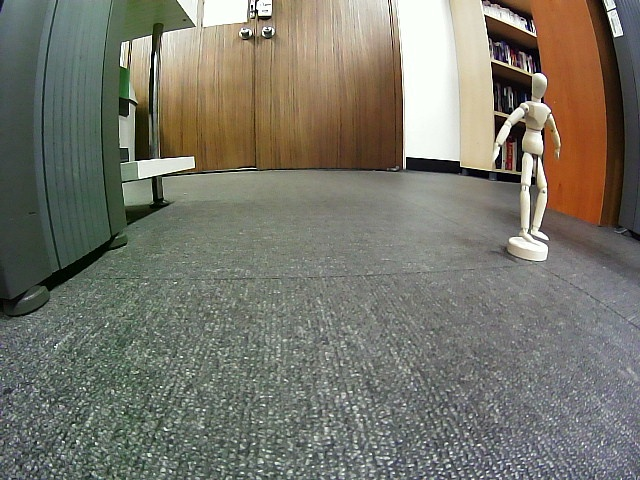person: (493, 71, 560, 245)
